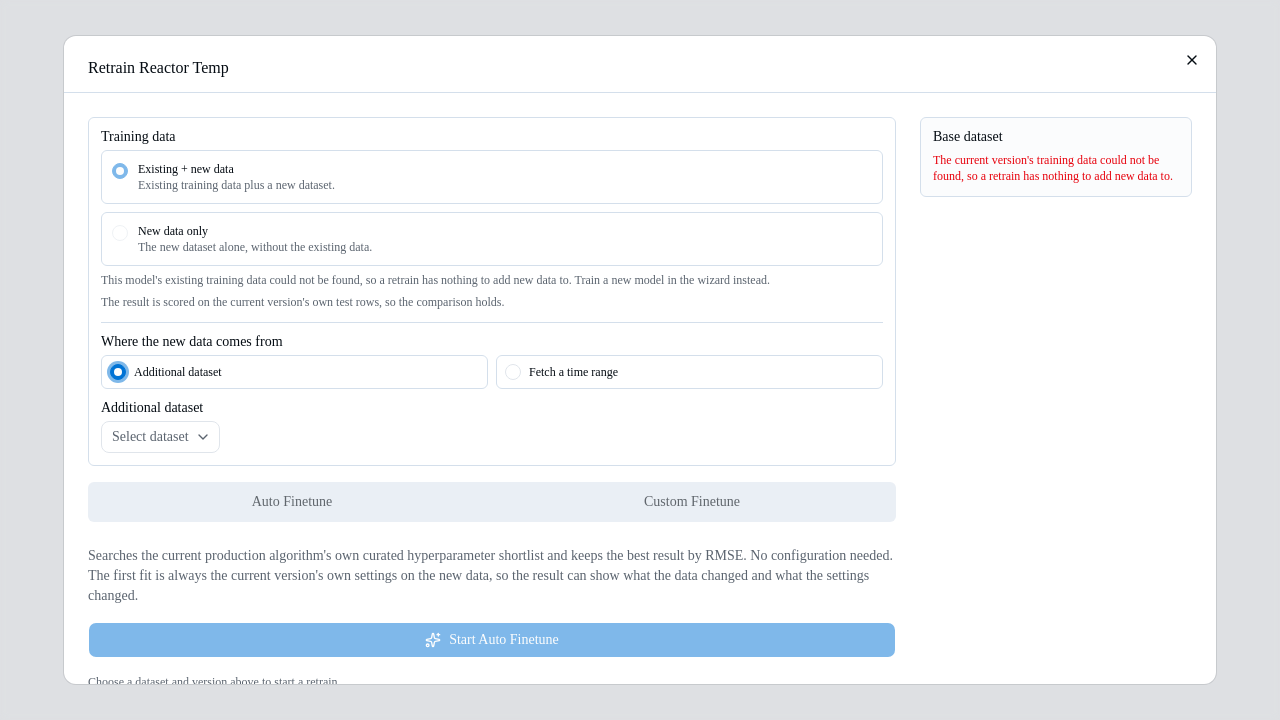
Test: ModelRetrainDialog — pre-flight (T08) › pins a Custom Finetune candidate to the incumbent algorithm
Click the tab "Custom Finetune" at coordinates (692, 502), box [492,486,892,518]
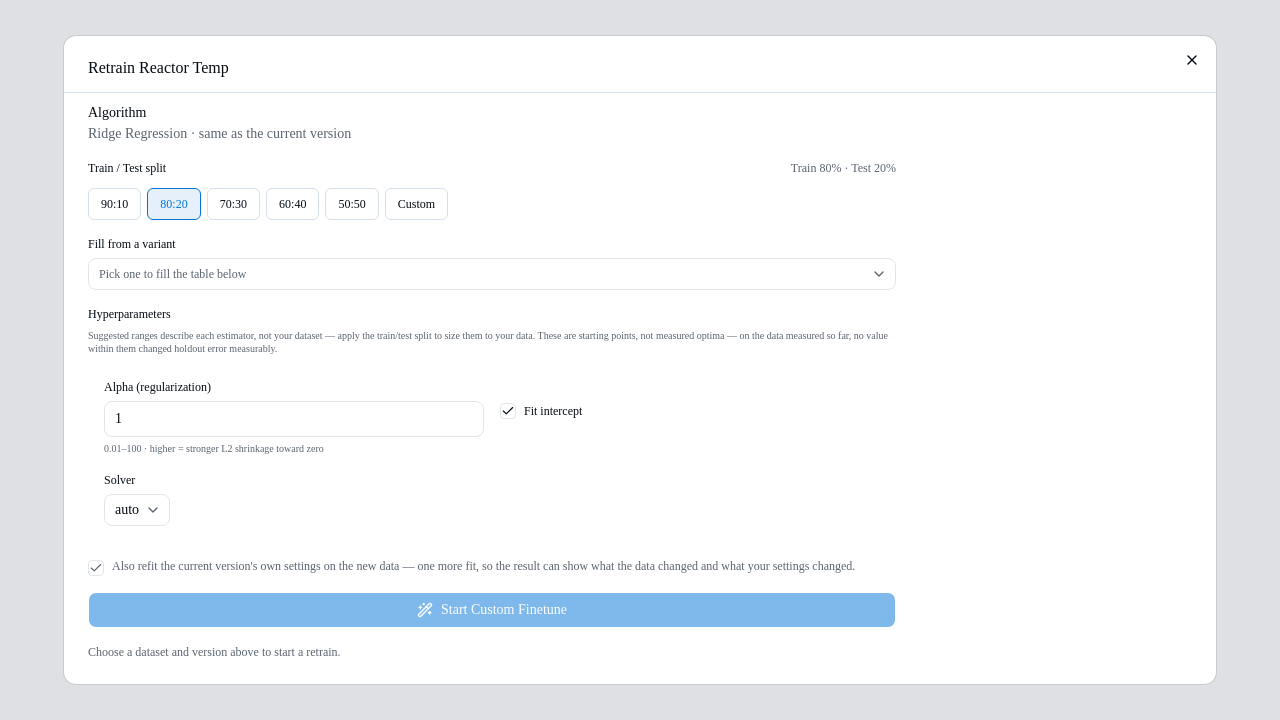
Expected: the button "Start Custom Finetune" is disabled, [88,592,896,628]
Result: the text "Ridge Regression · same as the current version" is shown at [88,126,351,141]
